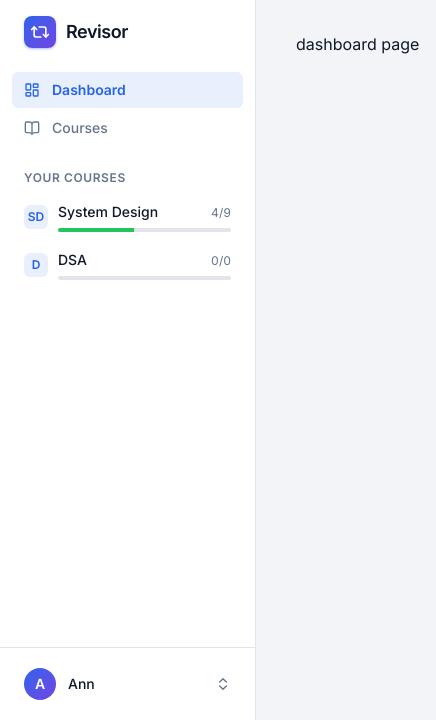
Test case: user menu › offers Light, Dark and System, with System selected until the user chooses
Click the button "A Ann".
click(128, 684)  # box [12,660,243,708]
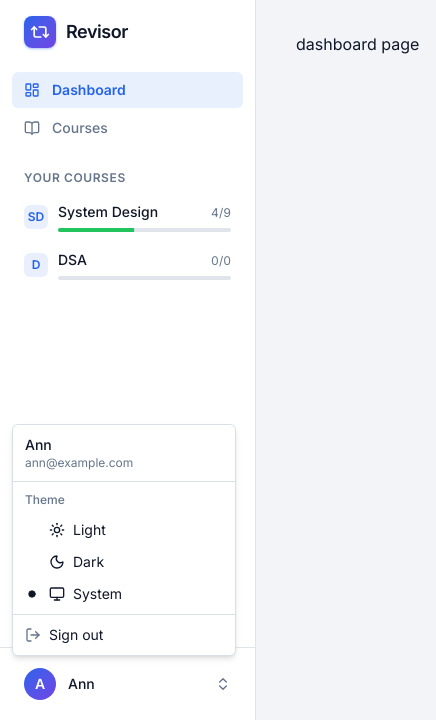
Expected: the menu item "System" is checked, [28,585,122,602]
Expected: the menu item "Light" is not checked, [49,521,106,538]
Expected: the menu item "Dark" is not checked, [49,553,104,570]
